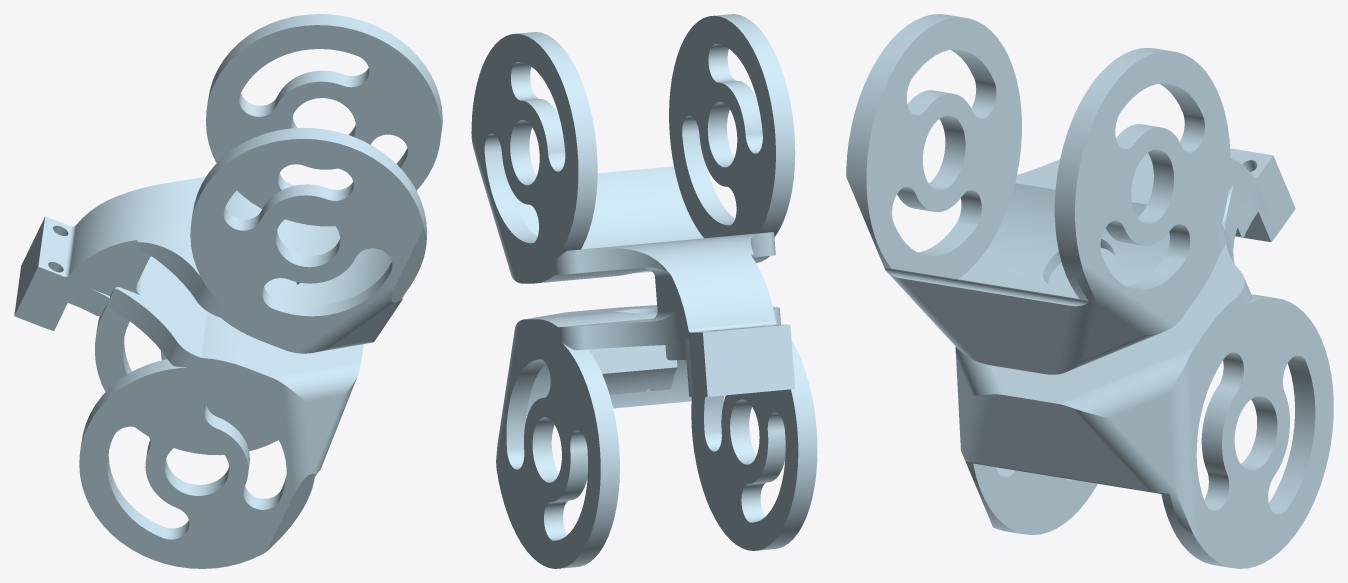
File: Robot_Master Copy 1 - Part 3 (1).gltf
The picture shows the model from 3 angles, left to right: view 1: azimuth 30°, elevation 25°; view 2: azimuth 150°, elevation 25°; view 3: azimuth 270°, elevation 25°; orthographic projection. The views are drawn at different scales.
Visible parts, largest first — view 1: Part 3; view 2: Part 3; view 3: Part 3.
Part boxes in pixels (x1=…): Part 3: x1=14, y1=14, x2=442, y2=568; Part 3: x1=471, y1=14, x2=817, y2=568; Part 3: x1=846, y1=14, x2=1333, y2=568.
Bounding box in the file's own units: 0.0732 × 0.0901 × 0.0713.
